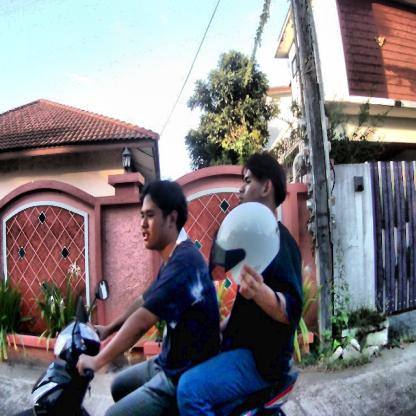not_wear: (210, 203, 278, 287), (140, 180, 186, 248), (238, 158, 288, 214)
